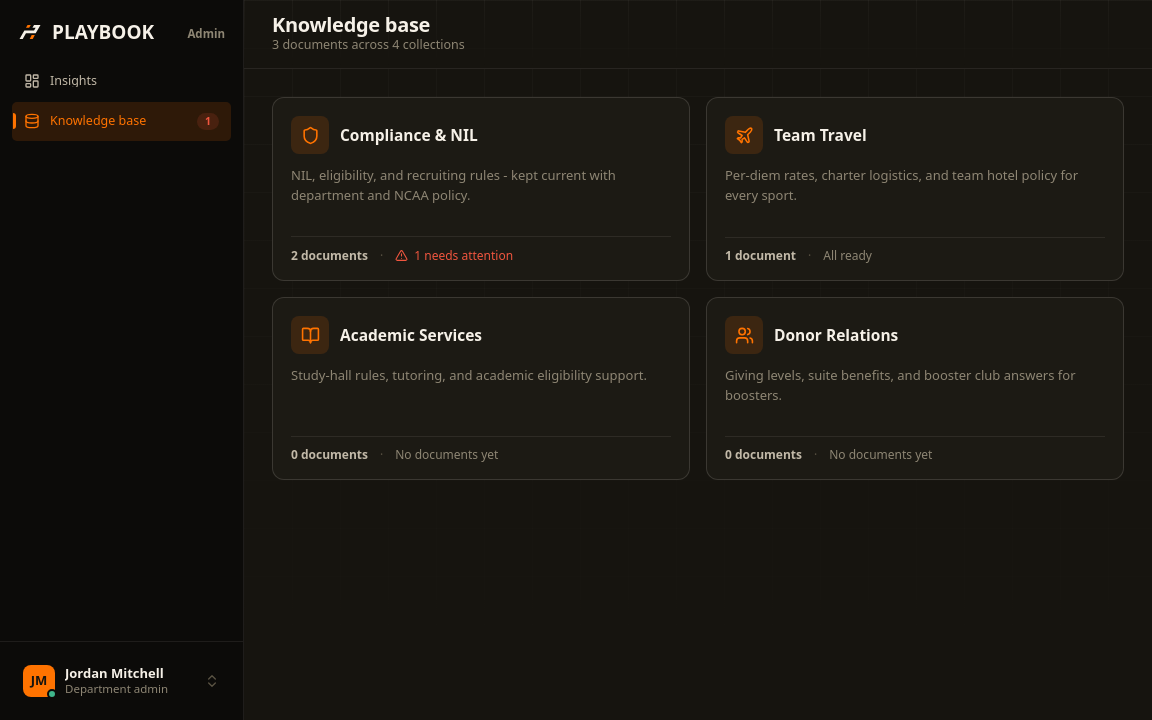
Scenario: AdminShell › lets department admins manage KB documents but not users or local collections
Click the button with aria-label "Compliance & NIL collection".
click(310, 135)  # box x1=291 y1=116 x2=671 y2=262
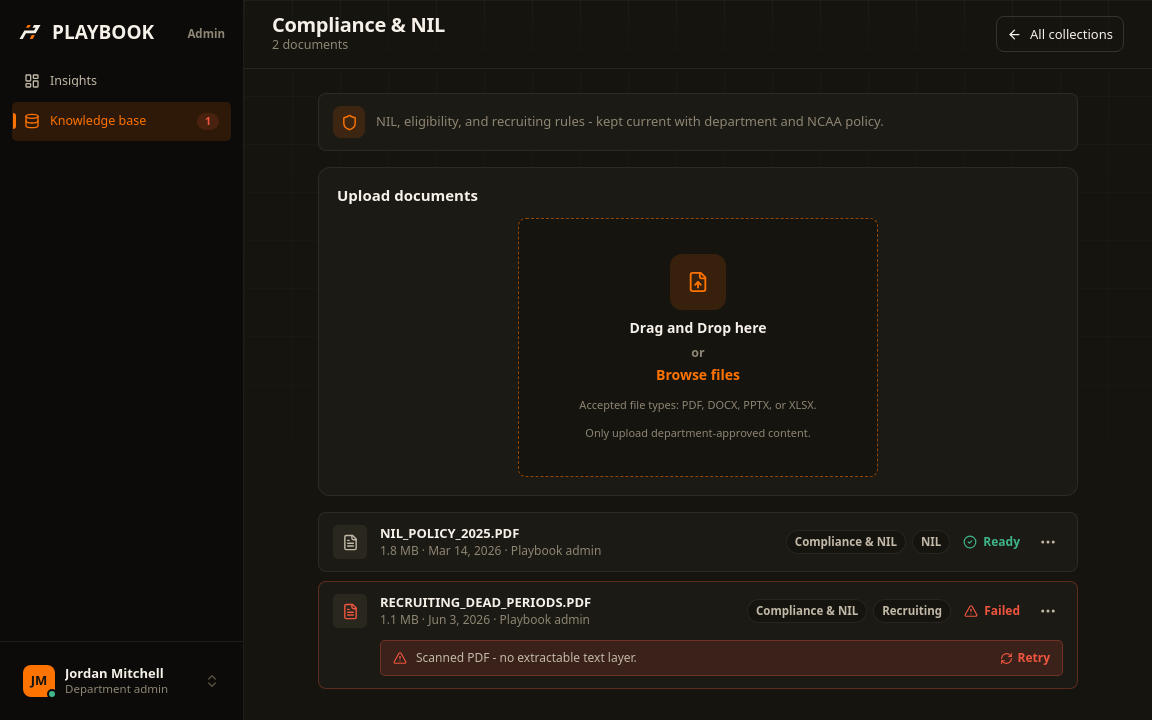
Check: the button with aria-label "Upload knowledge-base document to Compliance & NIL" is shown, box x1=518 y1=218 x2=878 y2=477
Check: the button with aria-label "Retry RECRUITING_DEAD_PERIODS.PDF" is shown, box x1=1000 y1=652 x2=1050 y2=665
Click the button named "Actions for RECRUITING_DEAD_PERIODS.PDF".
click(1048, 611)  # box x1=1033 y1=596 x2=1063 y2=626
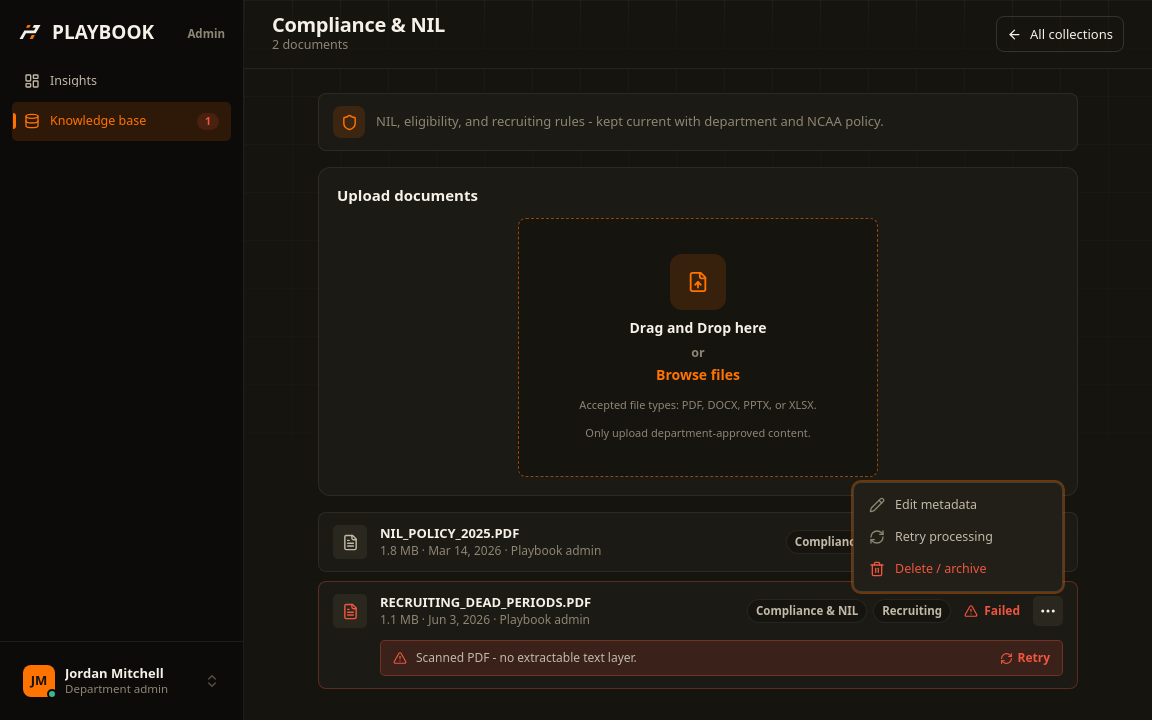
Check: the menu item "Delete / archive" is shown, box x1=869 y1=560 x2=986 y2=577
